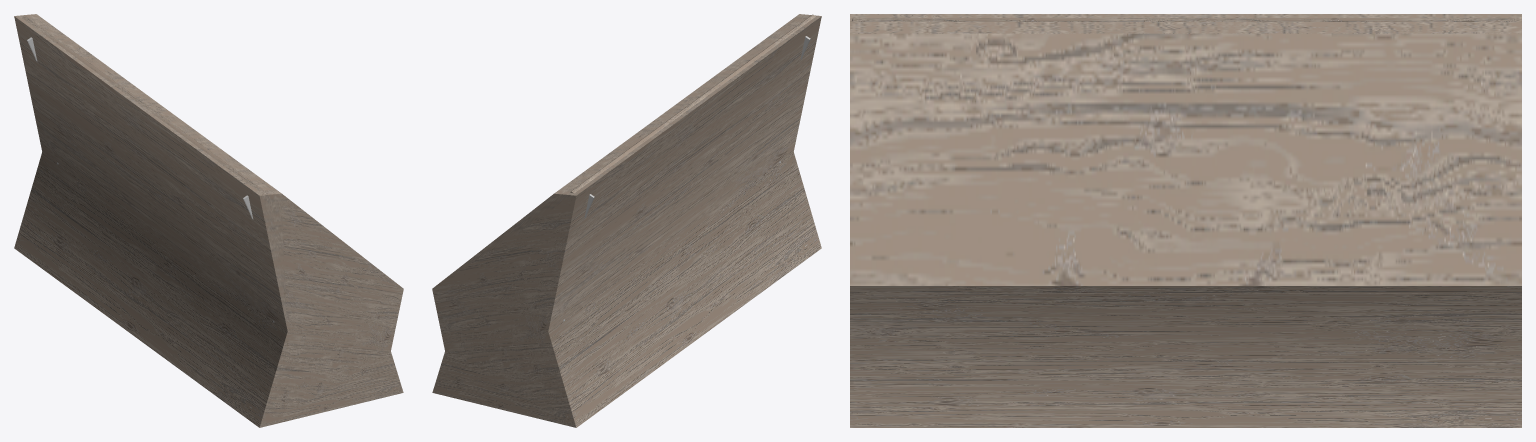
The model's file is si_bench.DAE.
3 views of the same model, side by side, from view 1: azimuth 30°, elevation 25°; view 2: azimuth 150°, elevation 25°; view 3: azimuth 270°, elevation 25° (orthographic). The views are drawn at different scales.
Visible parts, largest first — view 1: Colmesh-1, si_bench150; view 2: Colmesh-1, si_bench150; view 3: Colmesh-1, si_bench150.
Boxes of the visible parts, x1,y1,x2,y2 form: Colmesh-1: (14, 14, 403, 427); si_bench150: (22, 16, 267, 194); Colmesh-1: (432, 14, 821, 427); si_bench150: (570, 14, 815, 193); Colmesh-1: (850, 14, 1521, 427); si_bench150: (852, 18, 1514, 293).
Size of the model in its own units: 76.54 by 222 by 116.
